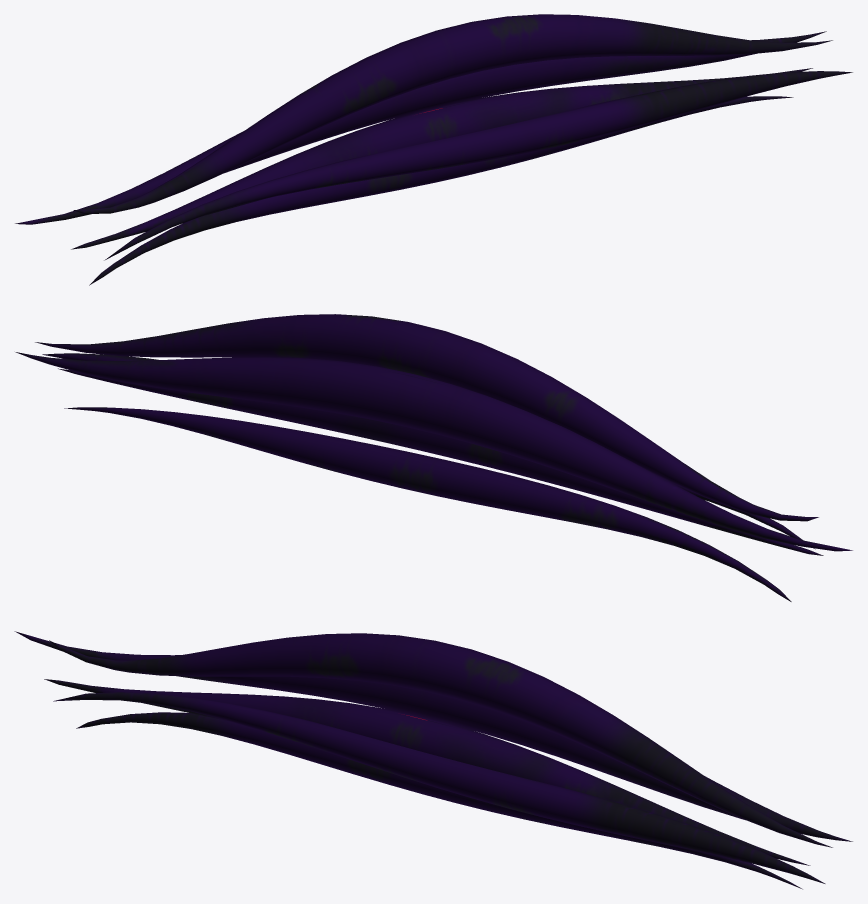
File: PeloDeGato.fbx
The picture shows the model from 3 angles, top to bottom: view 1: azimuth 30°, elevation 25°; view 2: azimuth 150°, elevation 25°; view 3: azimuth 330°, elevation 25°; orthographic projection. The views are drawn at different scales.
Parts seen in each view (by area): view 1: Pelo de Gato Preto; view 2: Pelo de Gato Preto; view 3: Pelo de Gato Preto.
Part boxes in pixels (box(x1,y1,x2,y2)): Pelo de Gato Preto: box(15, 14, 852, 285); Pelo de Gato Preto: box(15, 314, 852, 601); Pelo de Gato Preto: box(14, 631, 852, 889).
Bounding box in the file's own units: 286 × 58.22 × 27.63.
